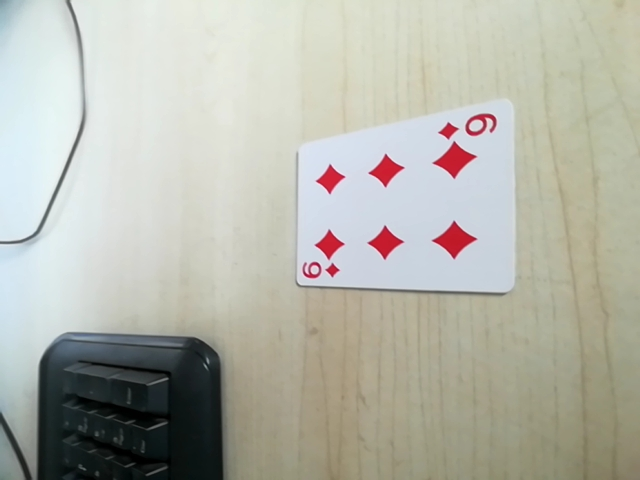fk 6: (437, 108, 502, 145), (296, 254, 344, 286)
